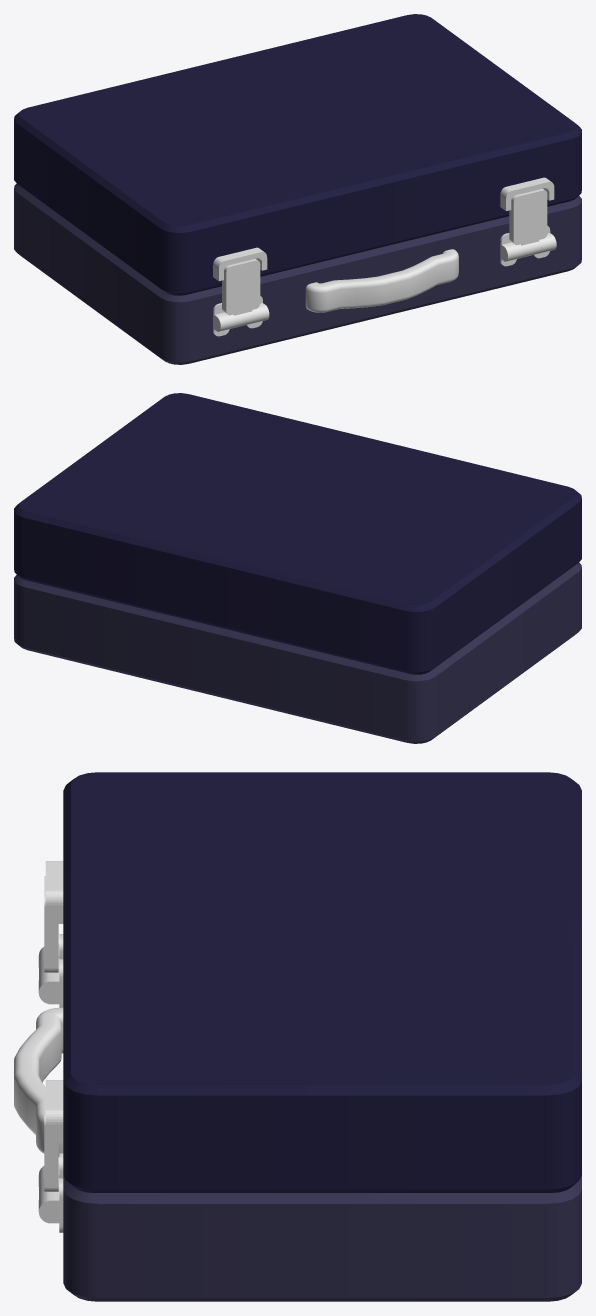
File: Simple Case.fbx
The picture shows the model from 3 angles, top to bottom: view 1: azimuth 30°, elevation 25°; view 2: azimuth 150°, elevation 25°; view 3: azimuth 270°, elevation 25°; orthographic projection. The views are drawn at different scales.
Visible parts, largest first — view 1: Case Top, Case, Handle, Cylinder, Cylinder.001, Lock, Lock.001, Cube.001, Cube.002; view 2: Case Top, Case; view 3: Case Top, Case, Handle, Cube.001, Cube.002, Lock, Lock.001, Cylinder, Cylinder.001.
Part boxes in pixels (box(x1,y1,x2,y2)): Case Top: box(14, 14, 581, 295); Case: box(14, 183, 581, 364); Handle: box(305, 249, 458, 312); Cylinder: box(509, 188, 547, 257); Cylinder.001: box(222, 259, 260, 327); Lock: box(500, 225, 556, 266); Lock.001: box(213, 296, 269, 336); Cube.001: box(500, 177, 554, 210); Cube.002: box(213, 247, 267, 281); Case Top: box(14, 393, 581, 674); Case: box(14, 562, 581, 743); Case Top: box(63, 772, 581, 1192); Case: box(63, 1175, 581, 1301); Handle: box(14, 1007, 63, 1156); Cube.001: box(45, 1080, 63, 1143); Cube.002: box(45, 861, 63, 923); Lock: box(38, 1153, 63, 1232); Lock.001: box(38, 934, 63, 1007); Cylinder: box(39, 1095, 59, 1197); Cylinder.001: box(39, 876, 59, 977).
Bounding box in the file's own units: 292 × 92.19 × 219.
